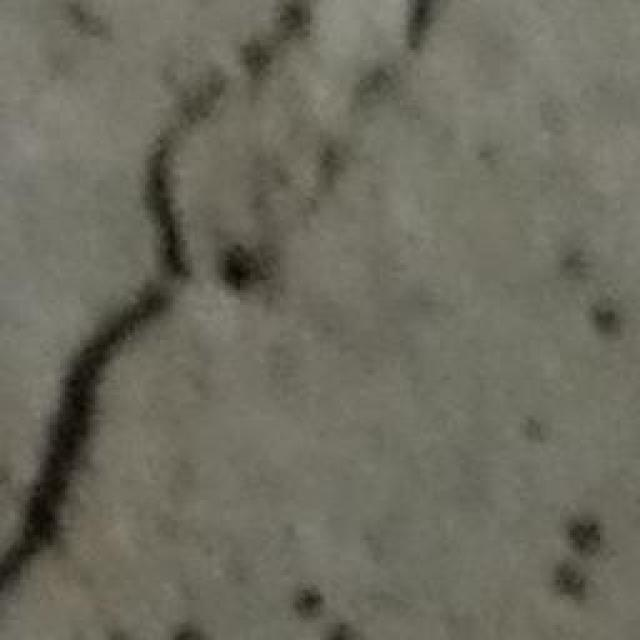Radial: (0, 0, 443, 634)
